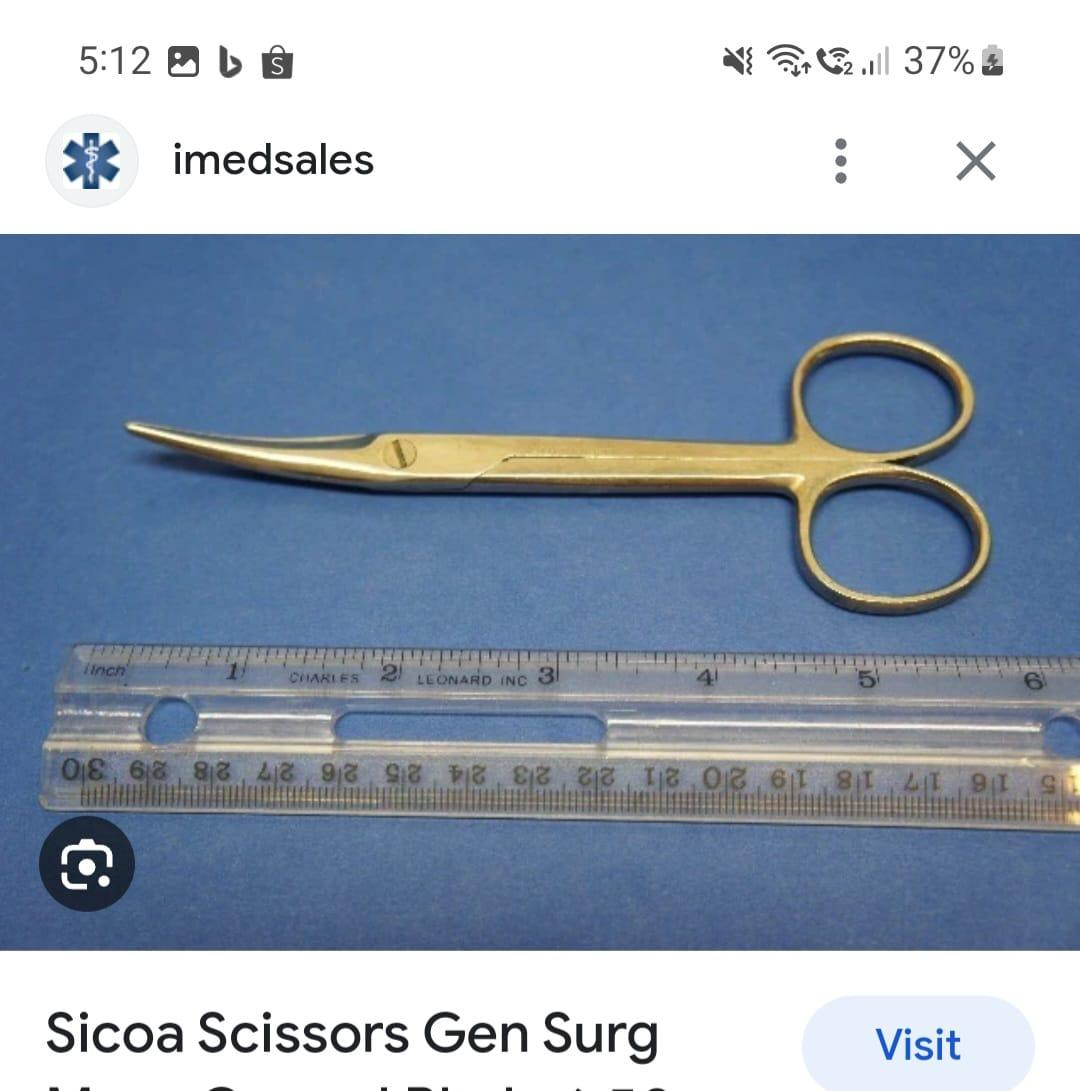Curved Mayo: (105, 327, 1000, 632)
